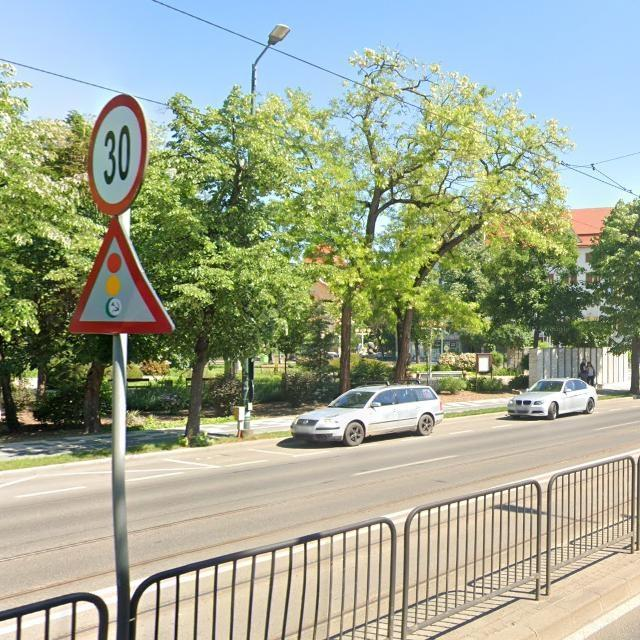forb_speed_over_30: (85, 93, 148, 215)
